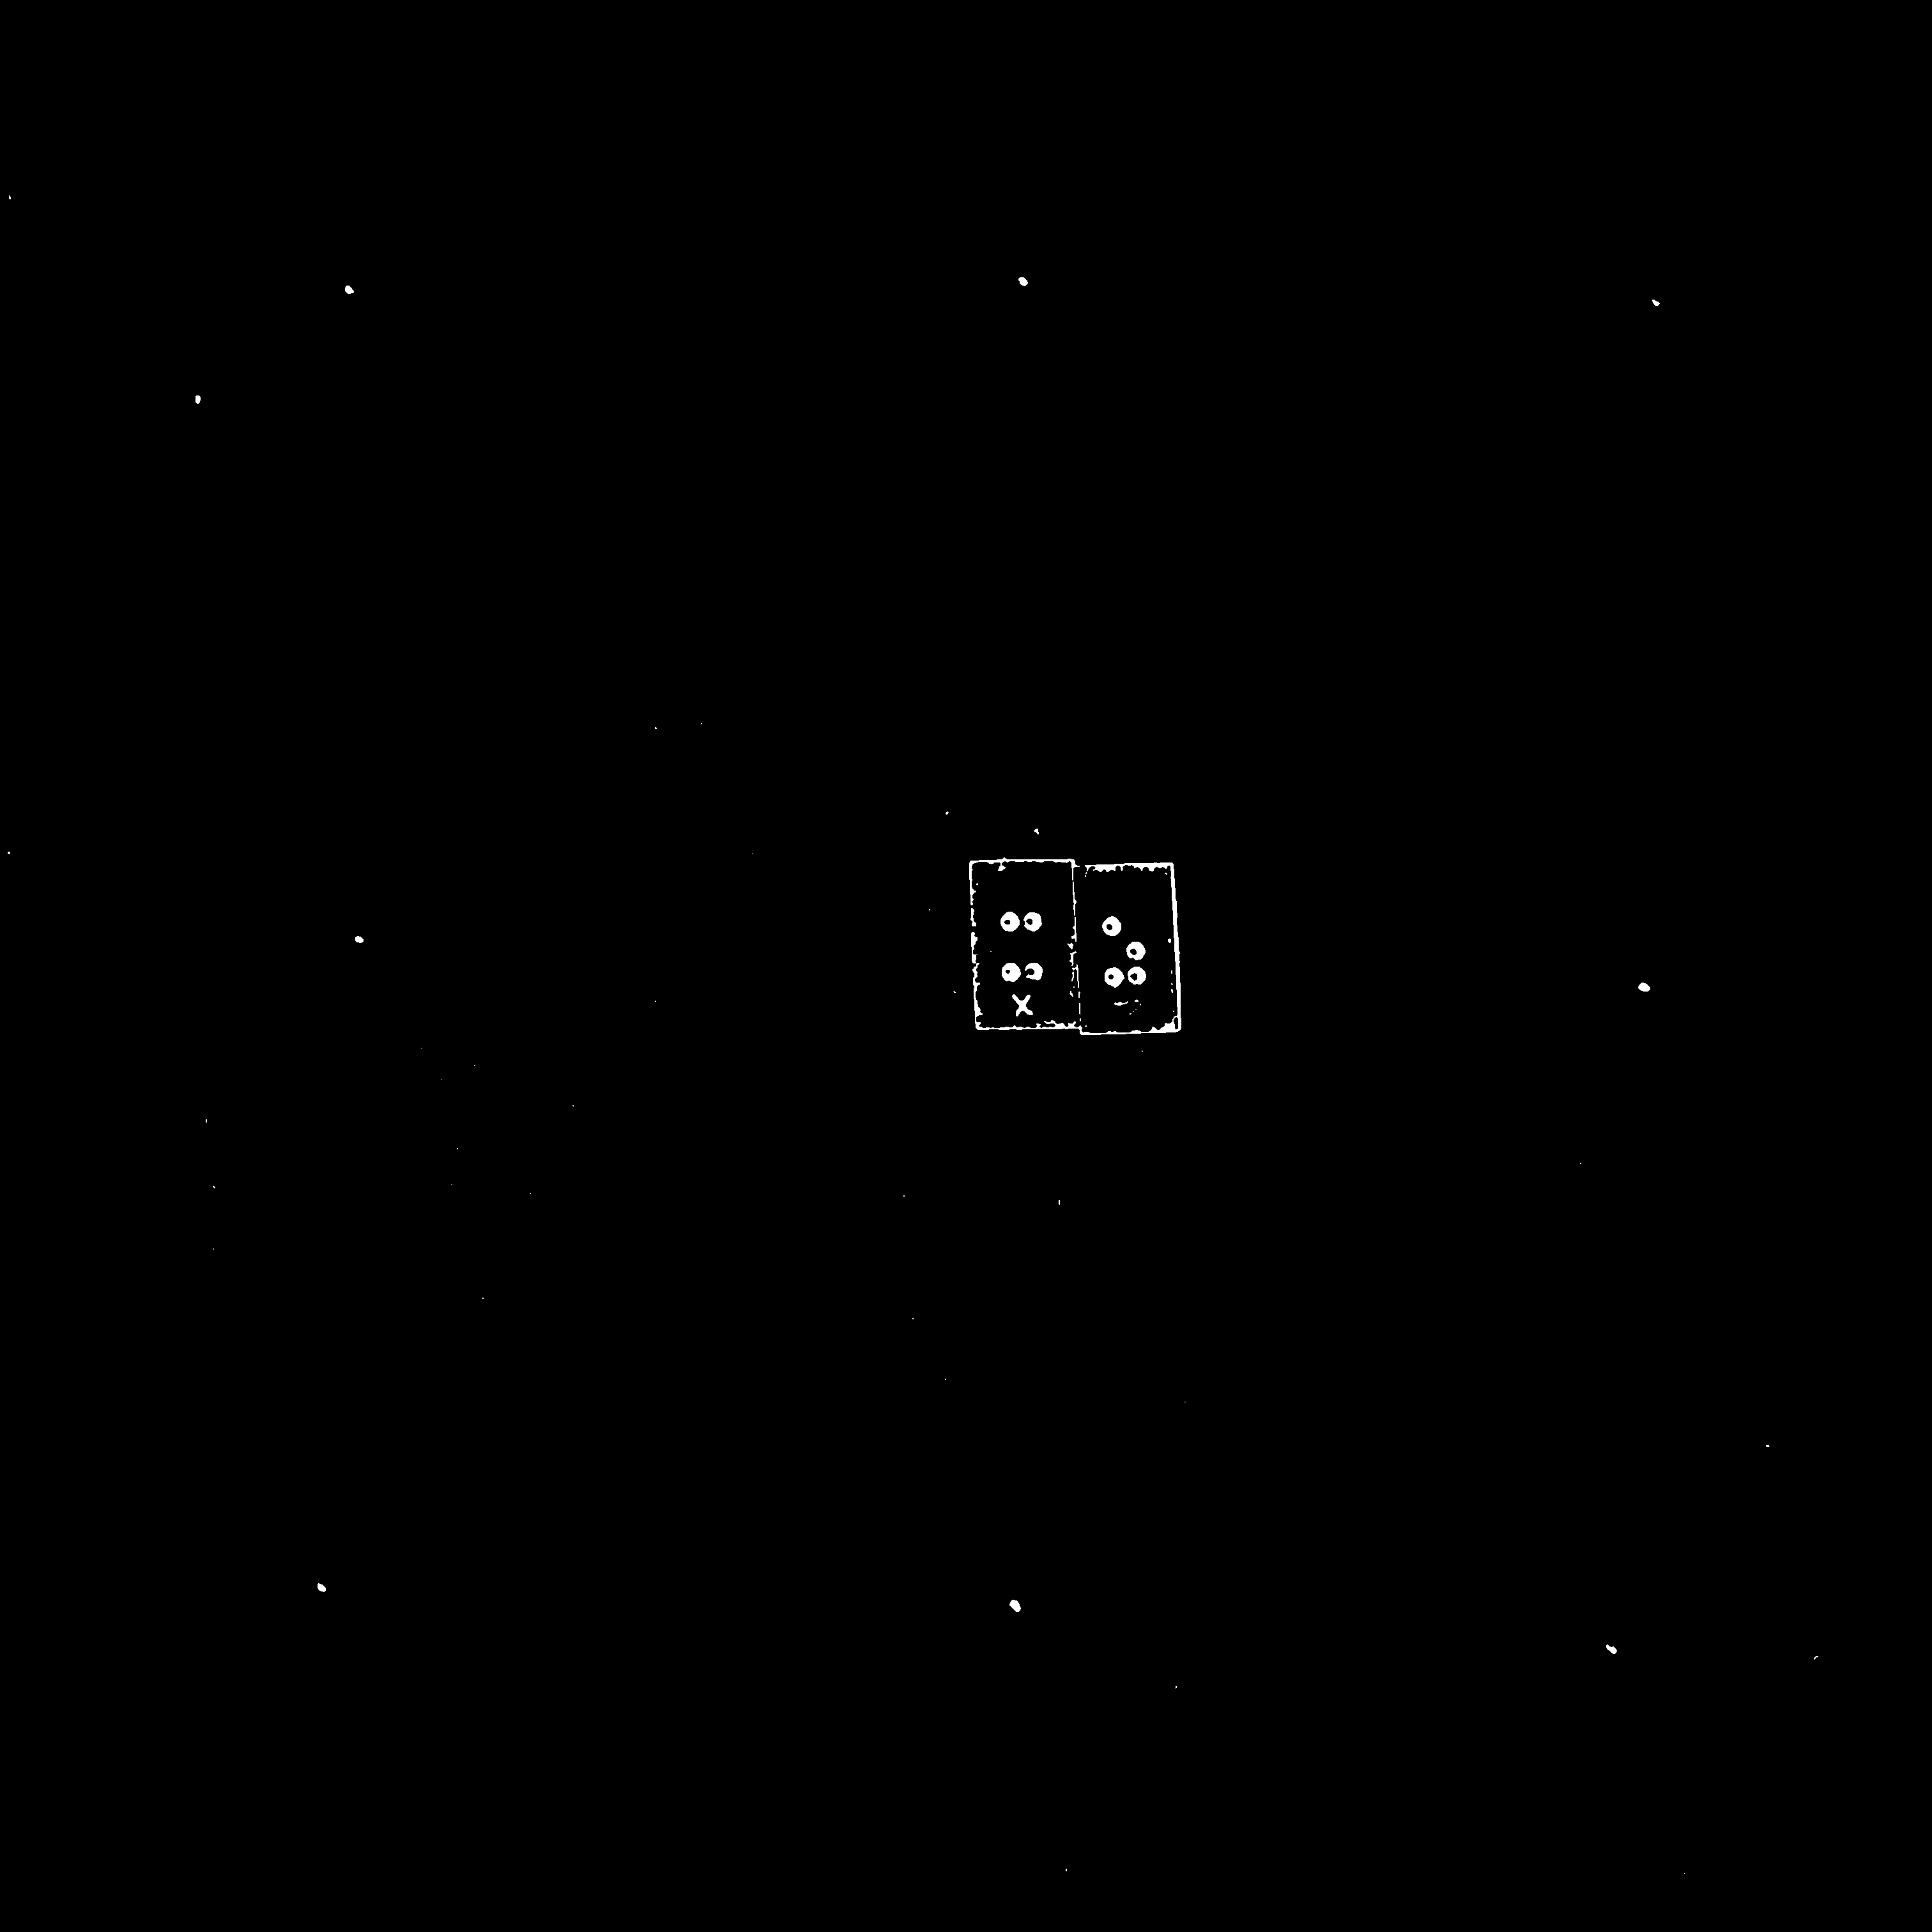x: (994, 899, 1055, 989)
z: (1095, 903, 1155, 993)
